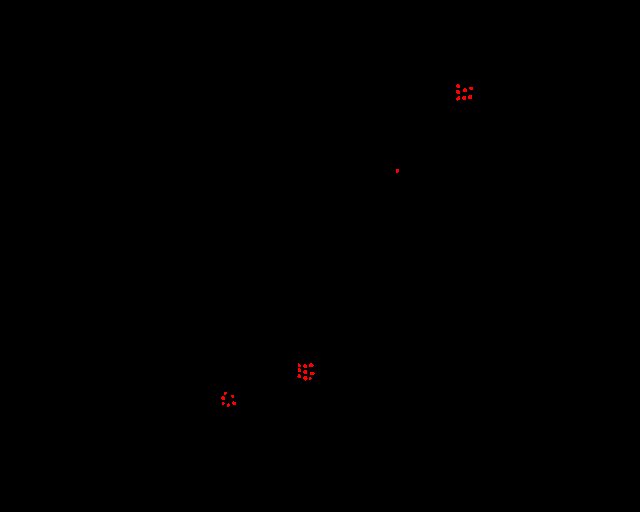Target: (303, 376, 308, 381), (456, 96, 460, 101), (309, 363, 314, 367), (456, 84, 460, 88), (463, 88, 467, 92), (456, 90, 460, 94), (468, 95, 472, 99), (462, 96, 466, 100), (303, 364, 307, 368), (303, 370, 307, 374), (297, 374, 301, 378), (221, 396, 225, 400), (232, 401, 236, 405), (310, 372, 315, 375), (469, 87, 473, 90), (396, 169, 399, 173), (298, 363, 301, 367), (298, 368, 301, 372), (227, 403, 230, 407), (309, 377, 312, 380), (224, 392, 227, 395), (231, 395, 234, 398), (222, 402, 225, 405)
